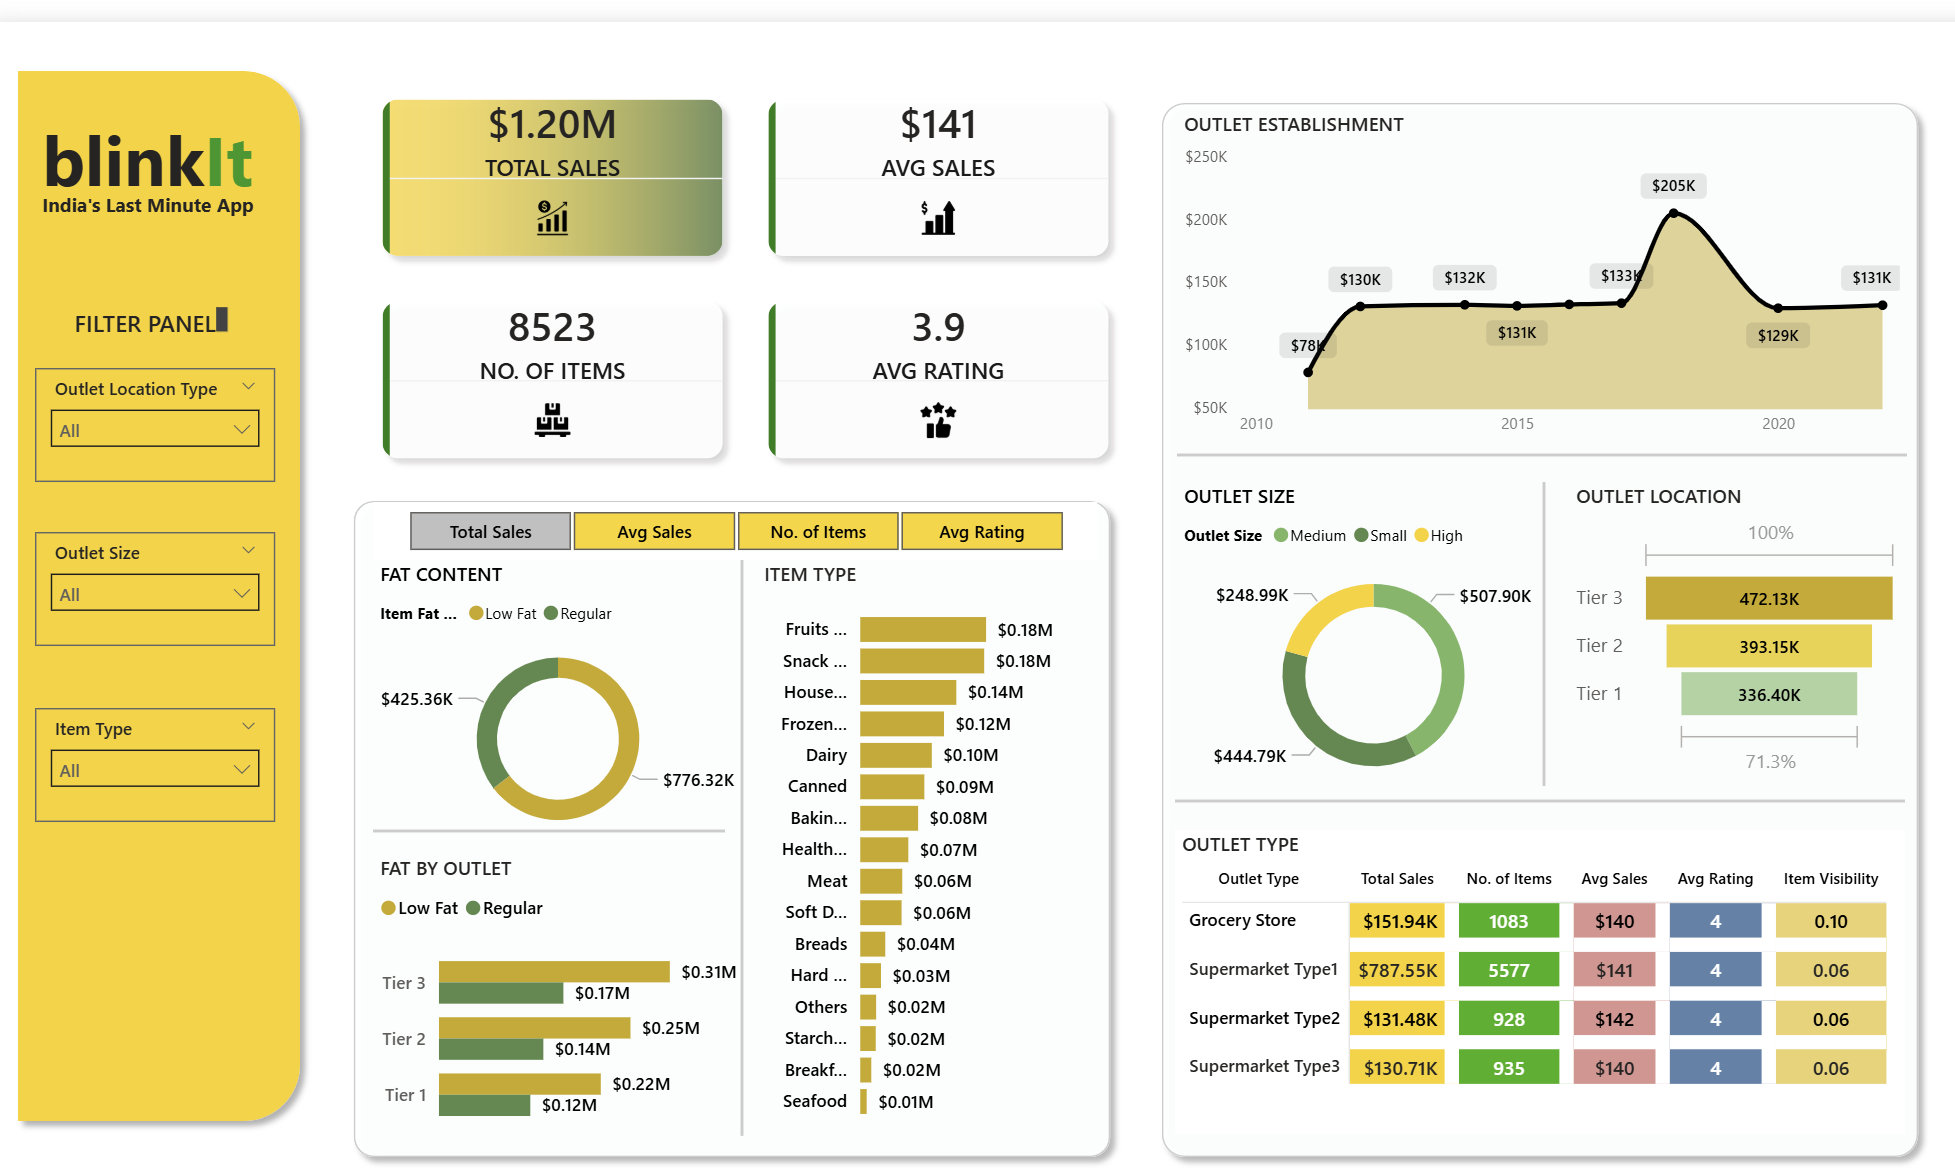

What the dashboard file says about the page in this screenshot:
{"tool":"powerbi","page":{"name":"Page 1","canvas":[1400,800],"ordinal":0},"visuals":[{"type":"shape","box":[9.8,25.1,214.7,750.2],"z":0},{"type":"textbox","box":[30.7,57.2,165.9,73.9],"z":1000},{"type":"textbox","box":[30.7,112.9,165.9,36.3],"z":2000},{"type":"cardVisual","fields":{"Data":["BlinkIT Grocery Data.Total Sales","BlinkIT Grocery Data.Avg Sales","BlinkIT Grocery Data.No. of Items","BlinkIT Grocery Data.Avg Rating"]},"box":[244,25.1,564.7,309.6],"z":3000},{"type":"shape","box":[244,324.9,545.2,475.5],"z":4000},{"type":"donutChart","title":"FAT CONTENT","fields":{"Y":["BlinkIT Grocery Data.Total Sales"],"Category":["BlinkIT Grocery Data.Item Fat Content"]},"box":[266.3,375.1,258,205],"z":5000},{"type":"slicer","fields":{"Values":["Metrics.Metrics"]},"box":[266.3,334.7,504.8,40.4],"z":6000},{"type":"clusteredBarChart","title":"FAT BY OUTLET","fields":{"Y":["BlinkIT Grocery Data.Total Sales"],"Category":["BlinkIT Grocery Data.Outlet Location Type"],"Series":["BlinkIT Grocery Data.Item Fat Content"]},"box":[266.3,580.1,287.3,205],"z":7000},{"type":"shape","box":[266.3,531.3,245.4,65.5],"z":8000},{"type":"shape","box":[469.9,375.1,107.4,401.6],"z":9000},{"type":"barChart","title":"ITEM TYPE","fields":{"Y":["BlinkIT Grocery Data.Total Sales"],"Category":["BlinkIT Grocery Data.Item Type"]},"box":[534.1,375.1,237.1,400.2],"z":10000},{"type":"shape","box":[807.4,47.4,545.2,753],"z":11000},{"type":"lineChart","title":"OUTLET ESTABLISHMENT","fields":{"Category":["BlinkIT Grocery Data.Outlet Establishment Year"],"Y":["BlinkIT Grocery Data.Total Sales"]},"box":[826.9,61.4,509,235.7],"z":12000},{"type":"shape","box":[826.9,269.1,509,65.5],"z":13000},{"type":"donutChart","title":"OUTLET SIZE","fields":{"Y":["BlinkIT Grocery Data.Total Sales"],"Category":["BlinkIT Grocery Data.Outlet Size"]},"box":[826.9,320.7,274,225],"z":14000},{"type":"shape","box":[1029.1,320.7,107.4,212],"z":15000},{"type":"funnel","title":"OUTLET LOCATION","fields":{"Category":["BlinkIT Grocery Data.Outlet Location Type"],"Y":["Sum(BlinkIT Grocery Data.Sales)"]},"box":[1100.2,320.7,235.7,210.6],"z":16000},{"type":"shape","box":[825.5,510.4,509,65.5],"z":17000},{"type":"pivotTable","title":"OUTLET TYPE","fields":{"Values":["BlinkIT Grocery Data.Total Sales","BlinkIT Grocery Data.No. of Items","BlinkIT Grocery Data.Avg Sales","BlinkIT Grocery Data.Avg Rating","Avg(BlinkIT Grocery Data.Item Visibility)"],"Rows":["BlinkIT Grocery Data.Outlet Type"]},"box":[825.5,563.3,509,212],"z":18000},{"type":"slicer","fields":{"Values":["BlinkIT Grocery Data.Outlet Location Type"]},"box":[30.7,241.2,167.3,79.5],"z":19000},{"type":"slicer","fields":{"Values":["BlinkIT Grocery Data.Outlet Size"]},"box":[30.7,355.6,167.3,79.5],"z":20000},{"type":"slicer","fields":{"Values":["BlinkIT Grocery Data.Item Type"]},"box":[30.7,478.3,167.3,79.5],"z":21000},{"type":"textbox","box":[53,193.8,117.1,30.7],"z":22000}]}

Visuals, with their boxes on the page's 1400x800 design canvas (x1, y1, x2, y2). These are canvas units, not pixel positions in the 1955x1168 screenshot, which may show the page scaled, cropped or inside an application window:
shape: crop(10, 25, 224, 775)
textbox: crop(31, 57, 197, 131)
textbox: crop(31, 113, 197, 149)
cardVisual - BlinkIT Grocery Data.Total Sales x BlinkIT Grocery Data.Avg Sales: crop(244, 25, 809, 335)
shape: crop(244, 325, 789, 800)
"FAT CONTENT" donutChart: crop(266, 375, 524, 580)
slicer - Metrics.Metrics: crop(266, 335, 771, 375)
"FAT BY OUTLET" clusteredBarChart: crop(266, 580, 554, 785)
shape: crop(266, 531, 512, 597)
shape: crop(470, 375, 577, 777)
"ITEM TYPE" barChart: crop(534, 375, 771, 775)
shape: crop(807, 47, 1353, 800)
"OUTLET ESTABLISHMENT" lineChart: crop(827, 61, 1336, 297)
shape: crop(827, 269, 1336, 335)
"OUTLET SIZE" donutChart: crop(827, 321, 1101, 546)
shape: crop(1029, 321, 1136, 533)
"OUTLET LOCATION" funnel: crop(1100, 321, 1336, 531)
shape: crop(826, 510, 1334, 576)
"OUTLET TYPE" pivotTable: crop(826, 563, 1334, 775)
slicer - BlinkIT Grocery Data.Outlet Location Type: crop(31, 241, 198, 321)
slicer - BlinkIT Grocery Data.Outlet Size: crop(31, 356, 198, 435)
slicer - BlinkIT Grocery Data.Item Type: crop(31, 478, 198, 558)
textbox: crop(53, 194, 170, 224)
